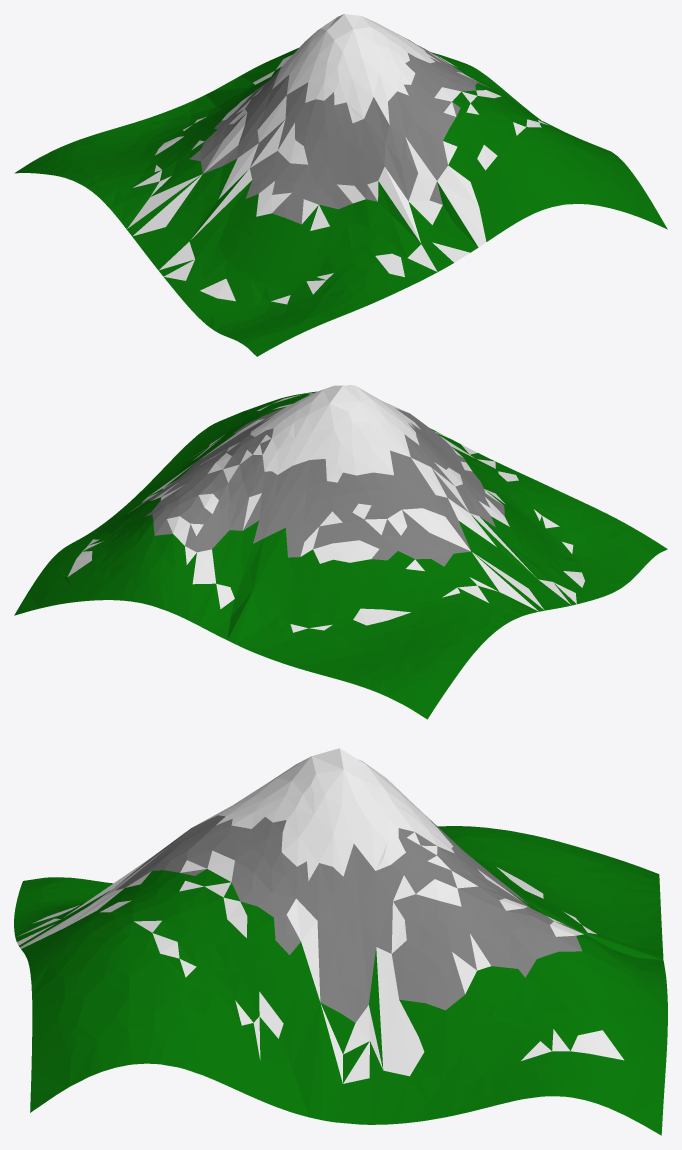
File: SM_Mountain.fbx
The picture shows the model from 3 angles, top to bottom: view 1: azimuth 30°, elevation 25°; view 2: azimuth 150°, elevation 25°; view 3: azimuth 270°, elevation 25°; orthographic projection. The views are drawn at different scales.
Parts seen in each view (by area): view 1: Mountain; view 2: Mountain; view 3: Mountain.
Part boxes in pixels (x1,y1,x2,y2): Mountain: (14, 14, 667, 356); Mountain: (14, 385, 667, 719); Mountain: (14, 748, 667, 1135).
Size of the model in its own units: 37303 by 17043 by 37340.
